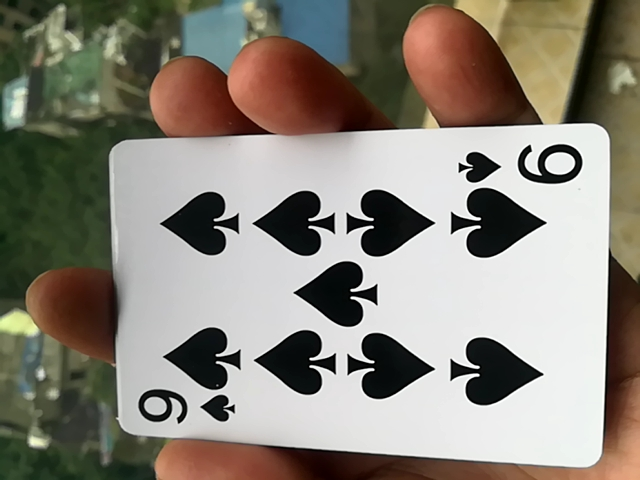ht 9: (103, 130, 607, 465)
